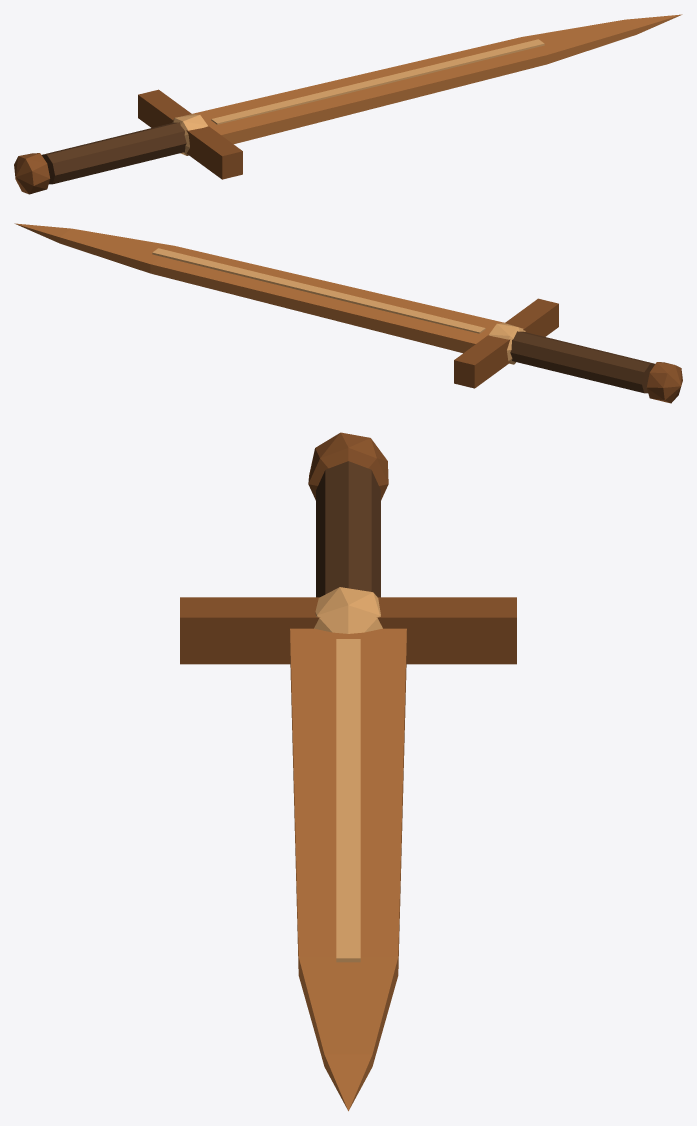
File: drop_bronze_sword.glb
3 views of the same model, one above another, from view 1: azimuth 30°, elevation 25°; view 2: azimuth 150°, elevation 25°; view 3: azimuth 270°, elevation 25° (orthographic). The views are drawn at different scales.
Visible parts, largest first — view 1: drop_bronze_sword; view 2: drop_bronze_sword; view 3: drop_bronze_sword.
Part boxes in pixels (x1,y1,x2,y2): drop_bronze_sword: [14, 14, 682, 194]; drop_bronze_sword: [14, 223, 682, 403]; drop_bronze_sword: [180, 432, 516, 1111].
Size of the model in its own units: 0.7176 by 0.0374 by 0.1568.
